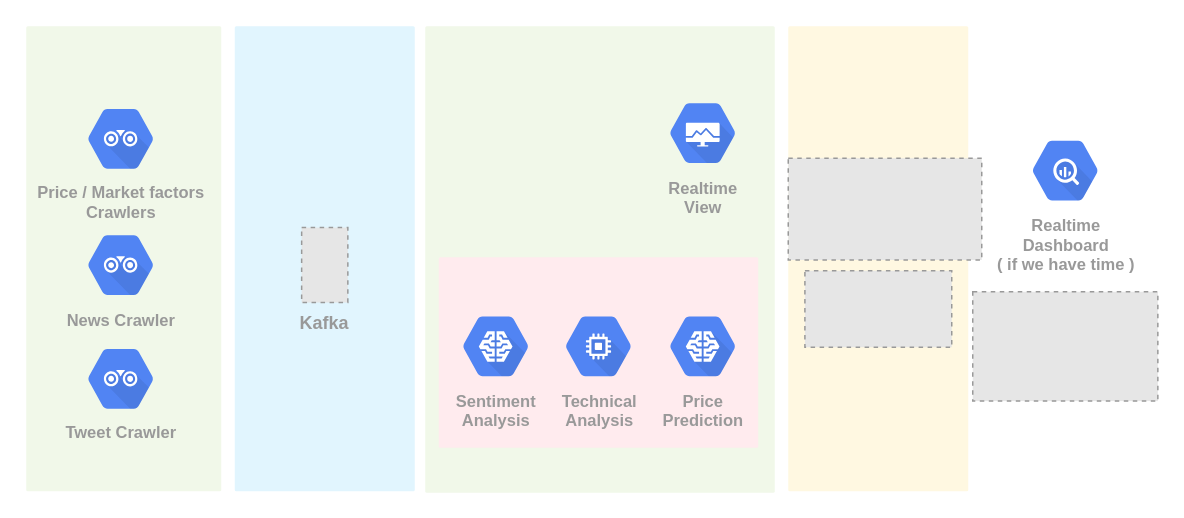
Image size: 1184x518. Some labels were removed from this diagram. Grey dashed boxes stand in for pictures. The box of each missing label's shape, as (x1, y1, x2, y2) in pixels:
Analytics / Price Prediction: (438, 256, 758, 447)
Data sources: (26, 26, 220, 490)
Messaging: (234, 26, 414, 490)
Serving layer: (788, 26, 968, 490)
Speed layer: (424, 26, 774, 492)
